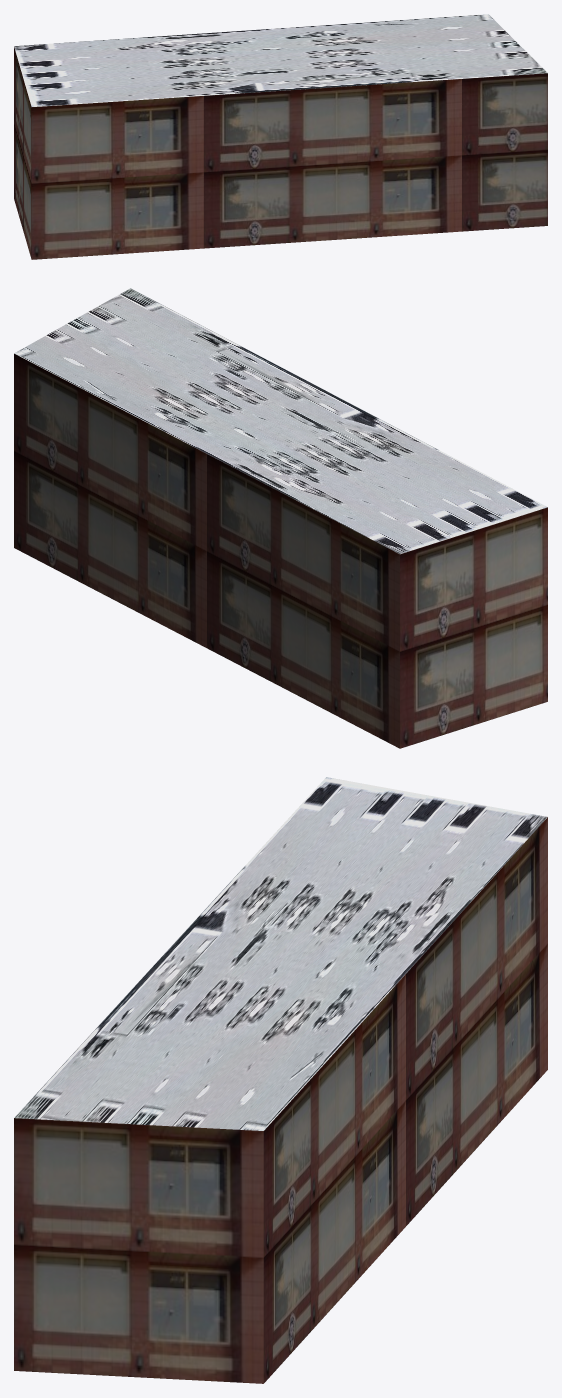
The model's file is ResTex__4648.fbx.
The picture shows the model from 3 angles, top to bottom: view 1: azimuth 30°, elevation 25°; view 2: azimuth 150°, elevation 25°; view 3: azimuth 270°, elevation 25°; orthographic projection. The views are drawn at different scales.
Parts seen in each view (by area): view 1: CityEngineMaterial_13_m, CityEngineMaterial_8_m; view 2: CityEngineMaterial_13_m, CityEngineMaterial_8_m; view 3: CityEngineMaterial_13_m, CityEngineMaterial_8_m.
Boxes of the visible parts, left/top/right/bottom form: CityEngineMaterial_13_m: left=14, top=47, right=547, bottom=259; CityEngineMaterial_8_m: left=14, top=14, right=547, bottom=106; CityEngineMaterial_13_m: left=14, top=353, right=547, bottom=748; CityEngineMaterial_8_m: left=14, top=288, right=547, bottom=554; CityEngineMaterial_13_m: left=14, top=817, right=547, bottom=1383; CityEngineMaterial_8_m: left=14, top=777, right=547, bottom=1130.
Size of the model in its own units: 18.02 by 6 by 11.49.
2 materials, 2 textured.
